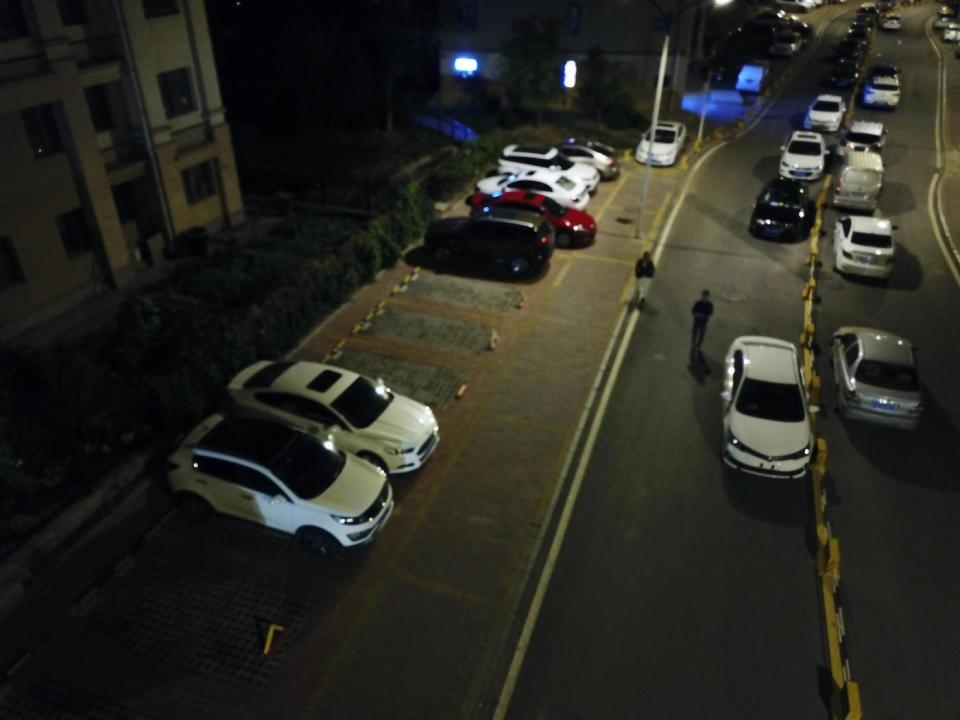car: (165, 408, 397, 555), (226, 360, 442, 478), (724, 332, 822, 480), (827, 324, 928, 433), (424, 206, 554, 279), (470, 182, 599, 252), (493, 143, 608, 201), (467, 168, 599, 218), (530, 132, 624, 183), (831, 213, 898, 279), (748, 175, 809, 241), (778, 126, 827, 182), (635, 116, 686, 167), (834, 116, 889, 161), (805, 91, 848, 131), (862, 61, 902, 104), (769, 30, 806, 56), (829, 56, 858, 89), (759, 8, 798, 30), (755, 10, 797, 29), (836, 36, 866, 60), (786, 16, 815, 36), (881, 9, 903, 31), (845, 21, 870, 39), (932, 9, 954, 29), (941, 23, 960, 42), (860, 1, 878, 19), (854, 12, 875, 26)
van: (832, 151, 883, 212), (735, 55, 772, 96)
